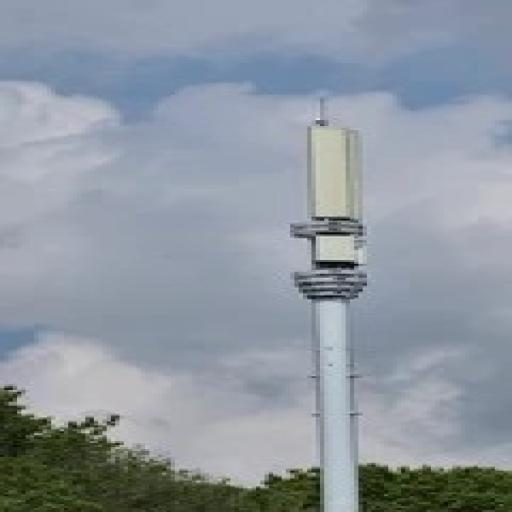monopole_tower: (294, 90, 383, 512)
